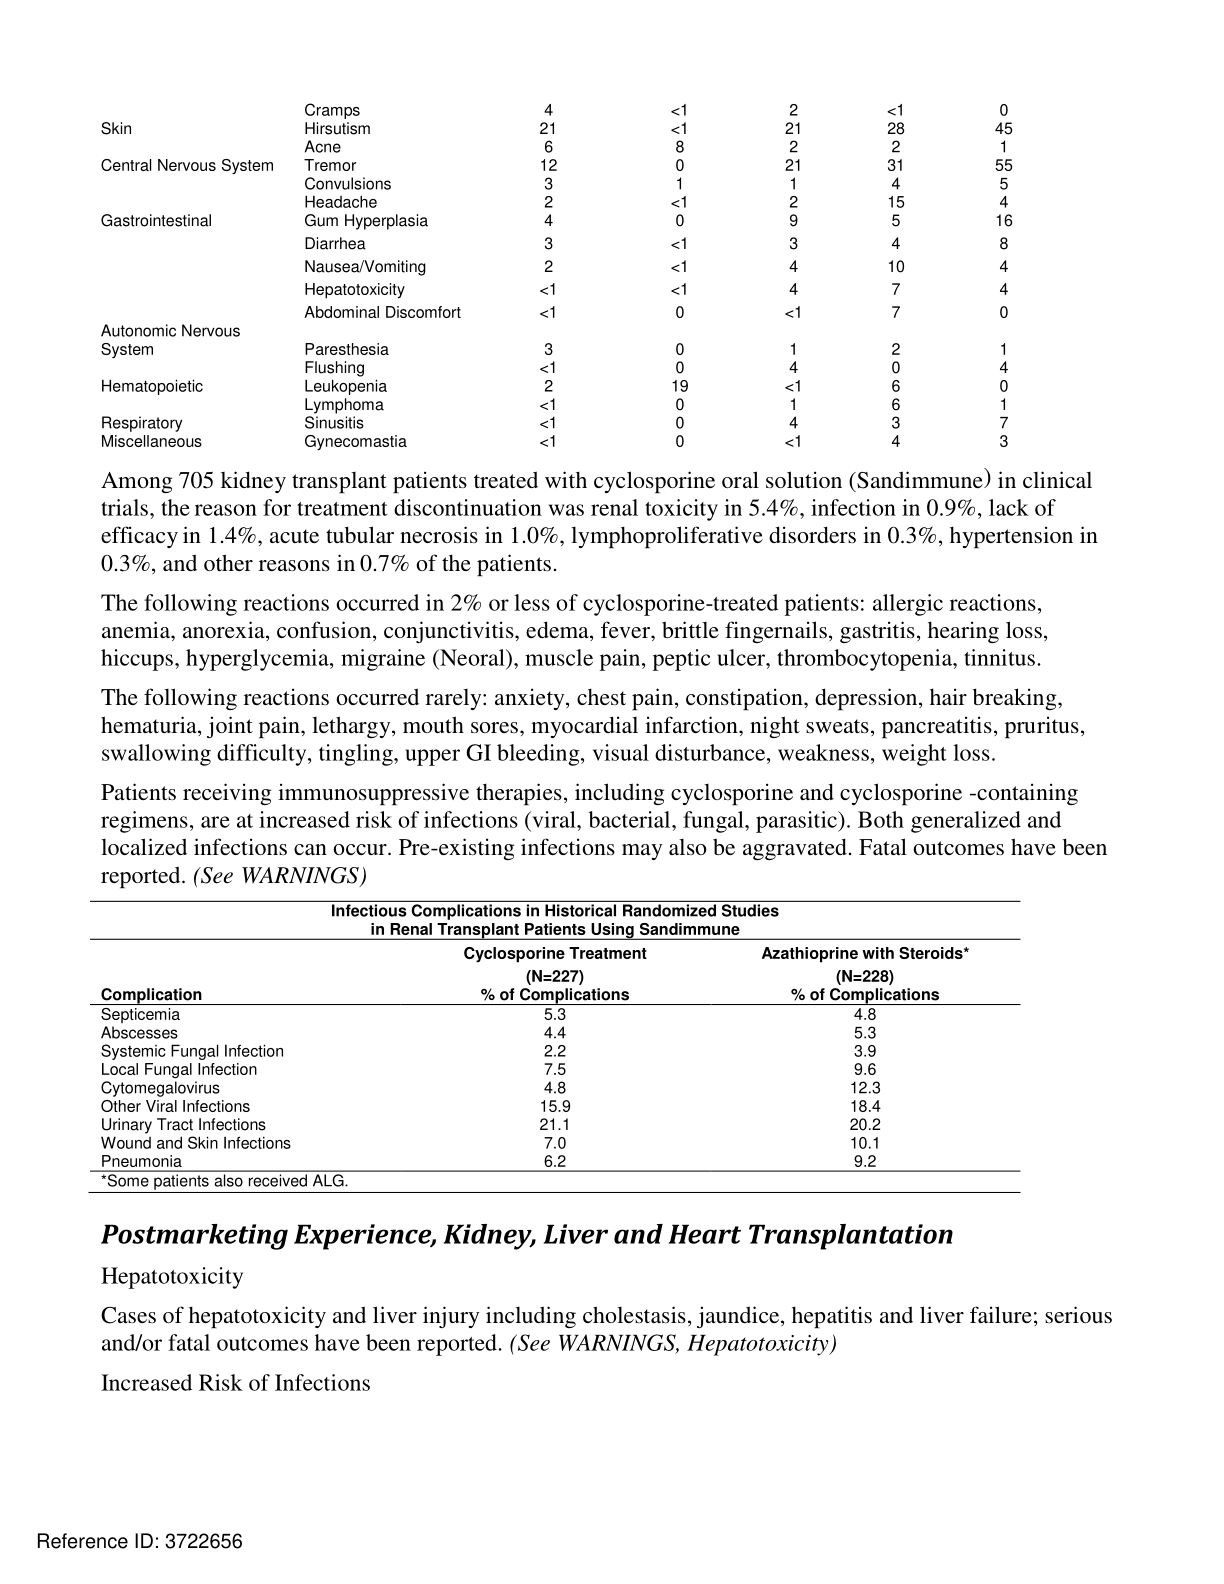nolines: (98, 95, 1013, 453)
partial_lined: (89, 937, 1023, 1194)
